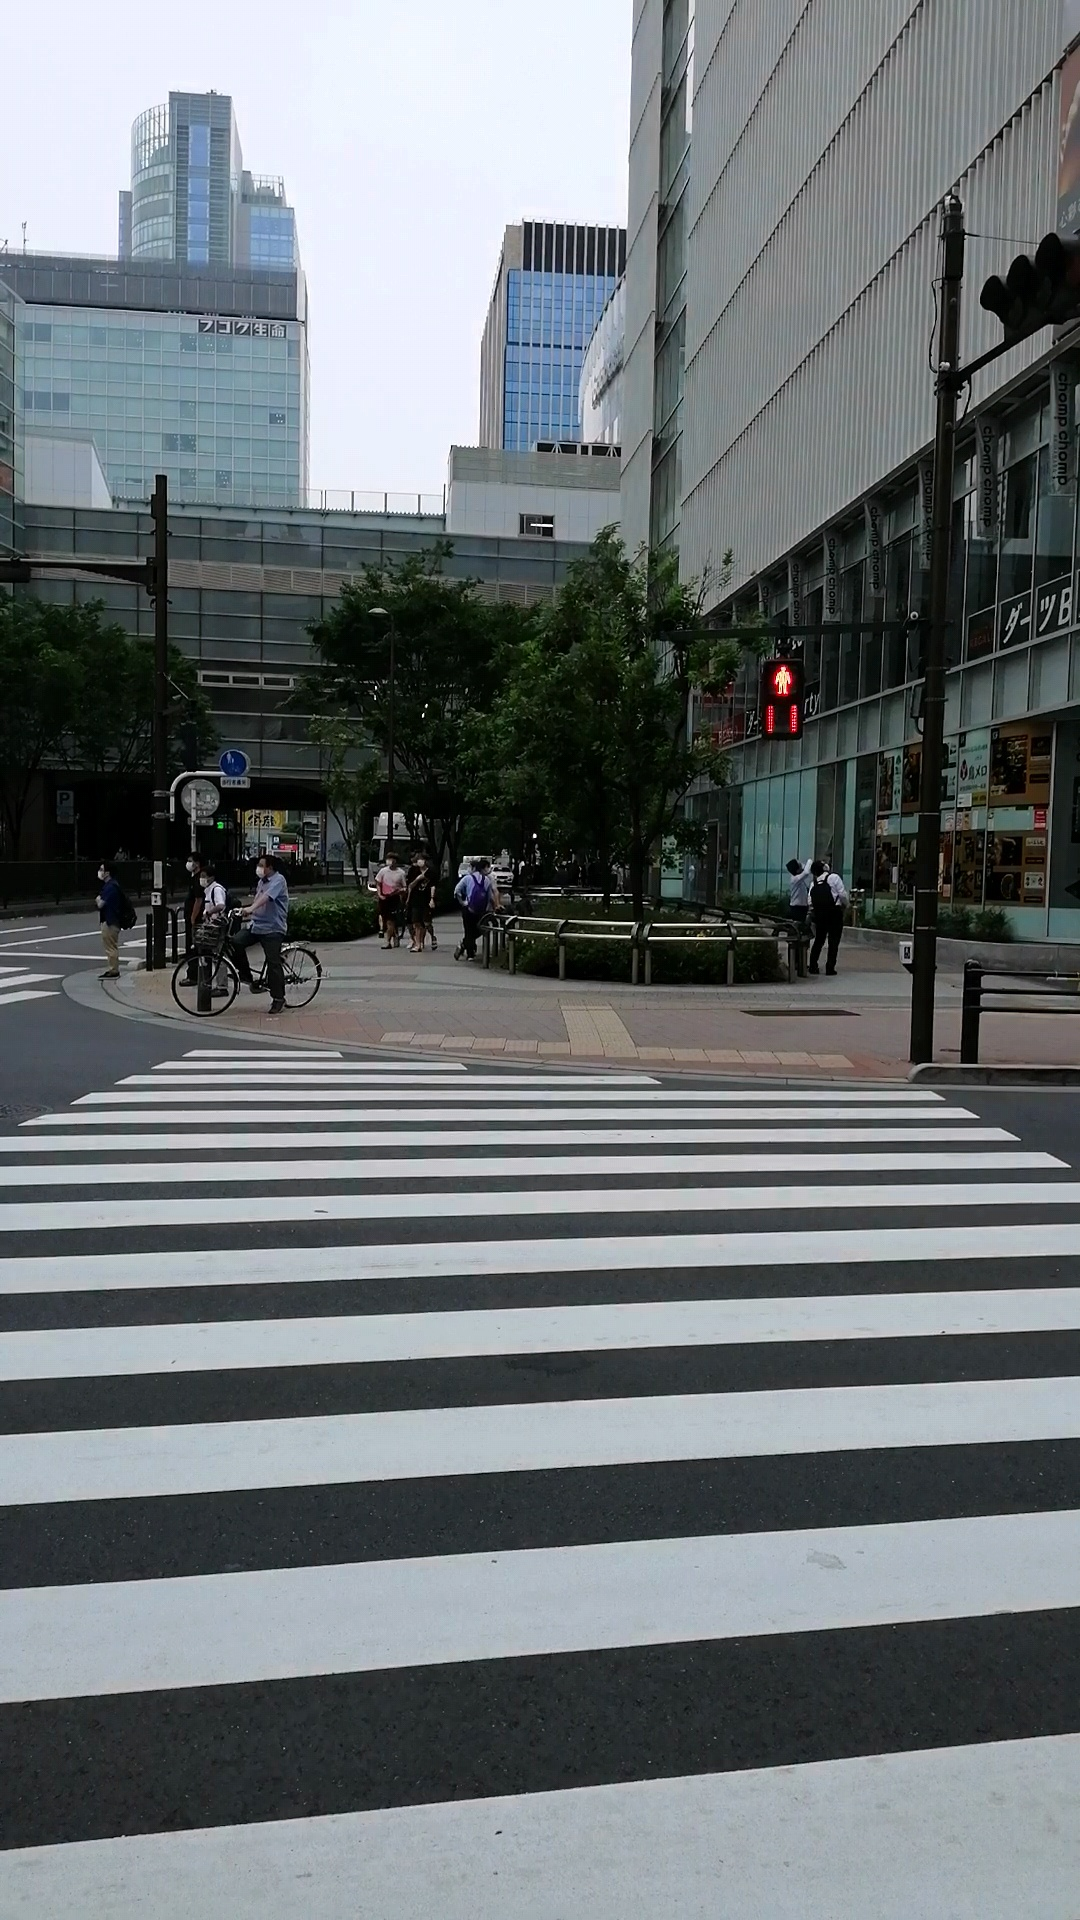red: (760, 658, 804, 741)
